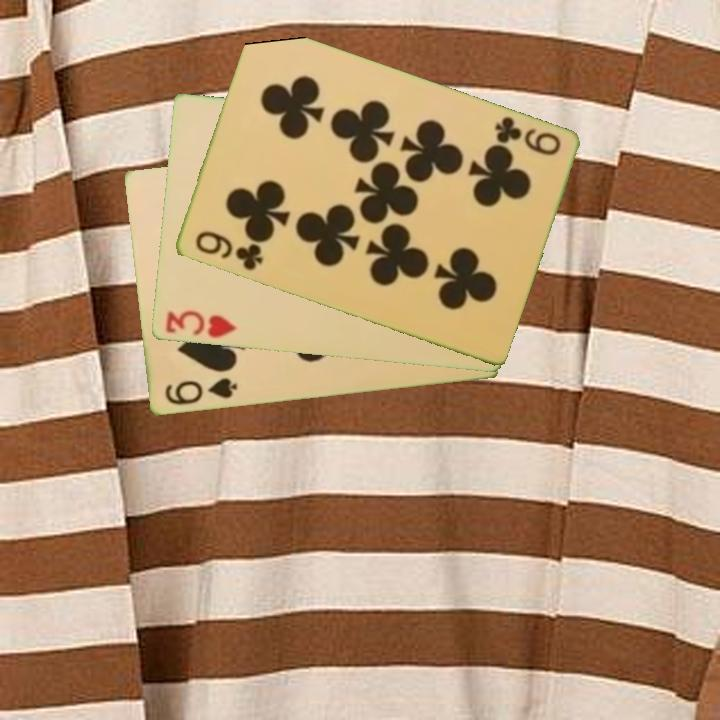3h: (161, 307, 240, 341)
6s: (161, 374, 240, 409)
9c: (191, 227, 265, 274), (490, 113, 564, 159)
